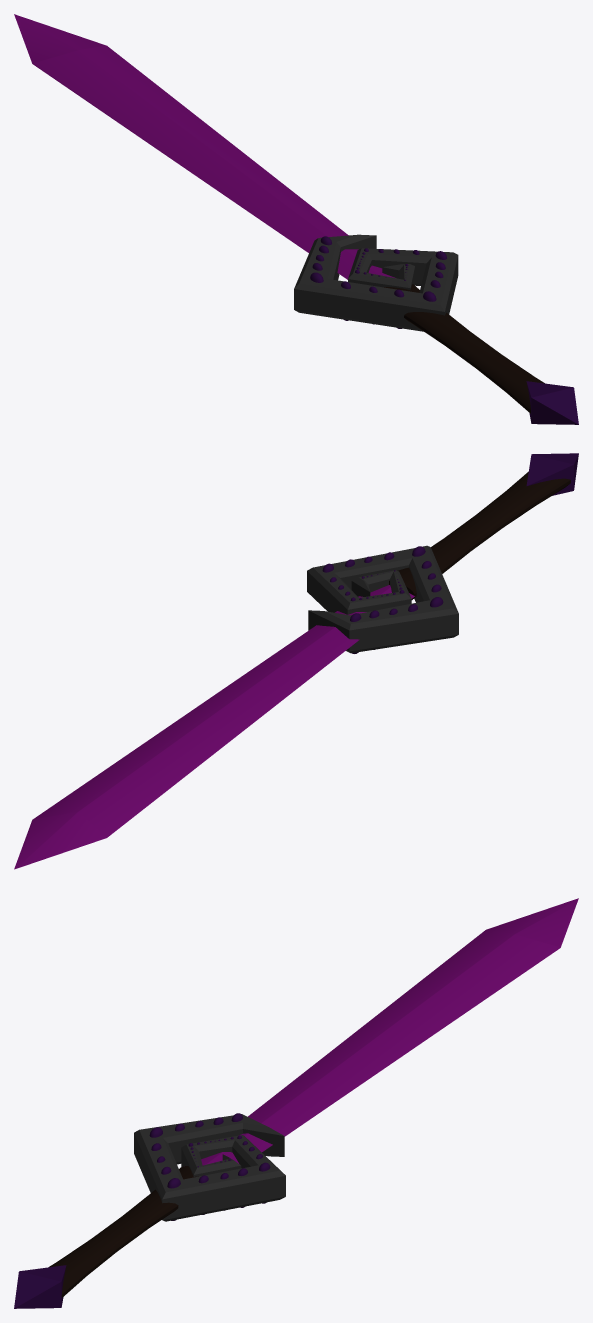
Rendered from Crystal Edge.FBX.
3 views of the same model, one above another, from view 1: azimuth 30°, elevation 25°; view 2: azimuth 150°, elevation 25°; view 3: azimuth 330°, elevation 25° (orthographic).
Visible parts, largest first — view 1: épée posing; view 2: épée posing; view 3: épée posing.
Part boxes in pixels (left/top/right/bottom): épée posing: left=14, top=14, right=578, bottom=424; épée posing: left=14, top=453, right=578, bottom=869; épée posing: left=14, top=898, right=578, bottom=1308.
Bounding box in the file's own units: 39.56 × 9.86 × 245.
